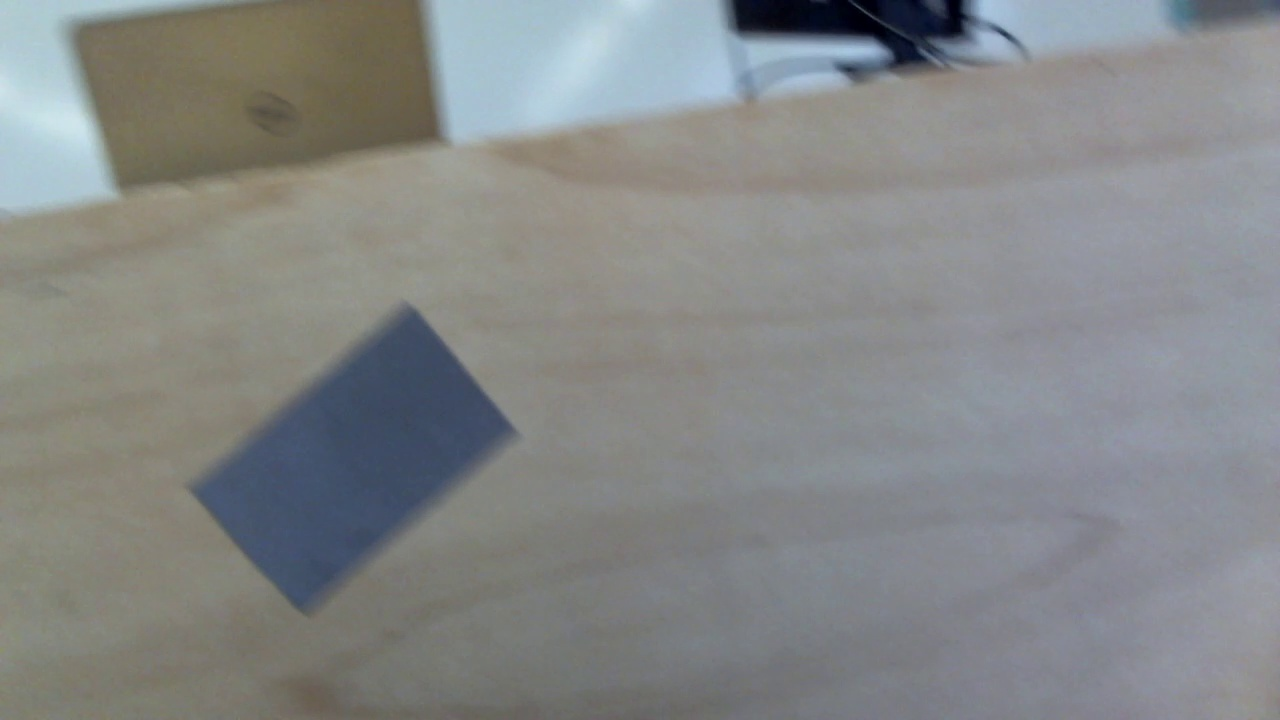Tape: (190, 300, 524, 616)
